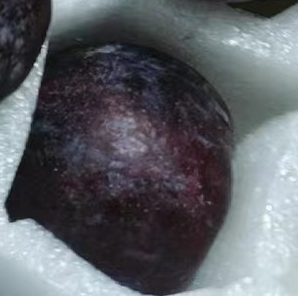plum_A: (5, 41, 236, 296)
